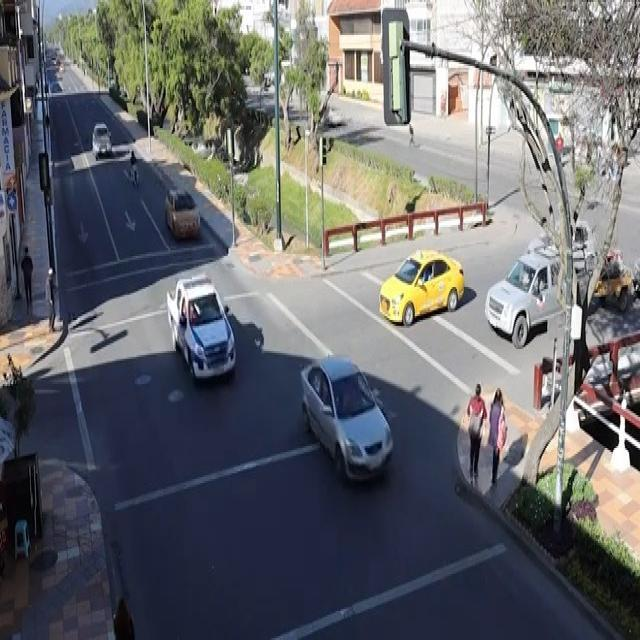CMT: (488, 250, 599, 345), (170, 279, 237, 382)
